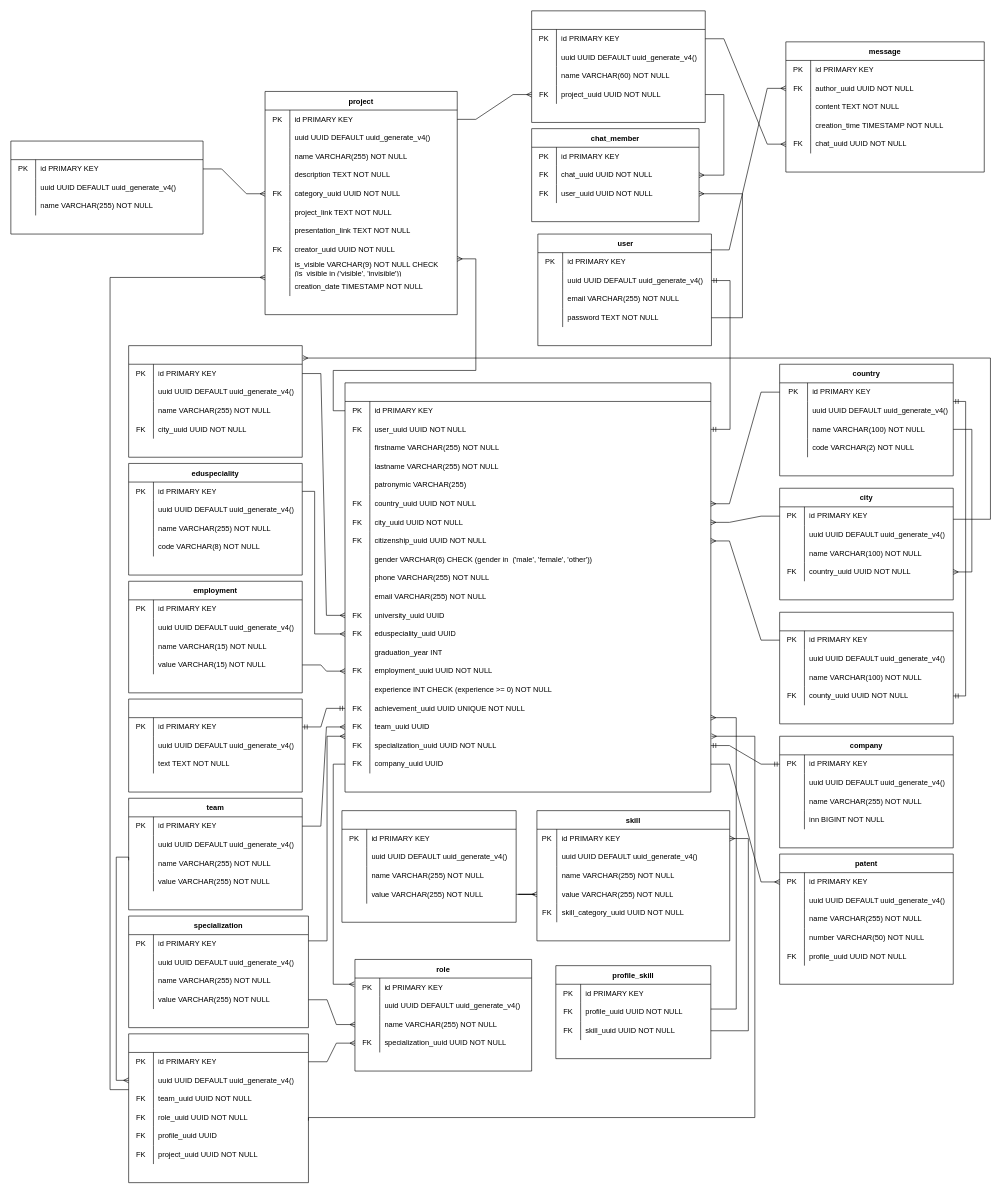
The diagram is 1006 pixels wide and 1194 high, and some of its shapes have lost their labels. Here are the shapes that lost their labels. From the top down, the box of each, then its label:
(531, 10, 705, 122): chat
(10, 140, 203, 234): category
(128, 345, 302, 457): university
(344, 382, 711, 792): profile
(779, 612, 953, 724): citizenship
(128, 698, 302, 792): achievement
(341, 810, 516, 922): skill_category
(128, 1033, 308, 1183): lineup
